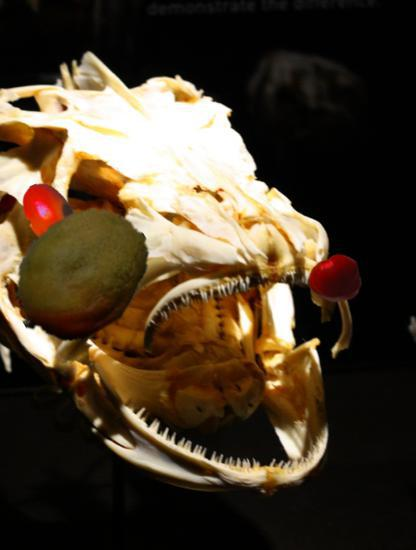Kaki: (19, 181, 77, 239)
Papaya: (7, 200, 156, 349)
Pitahaya: (24, 270, 77, 323)
Tomato: (308, 252, 361, 305)
